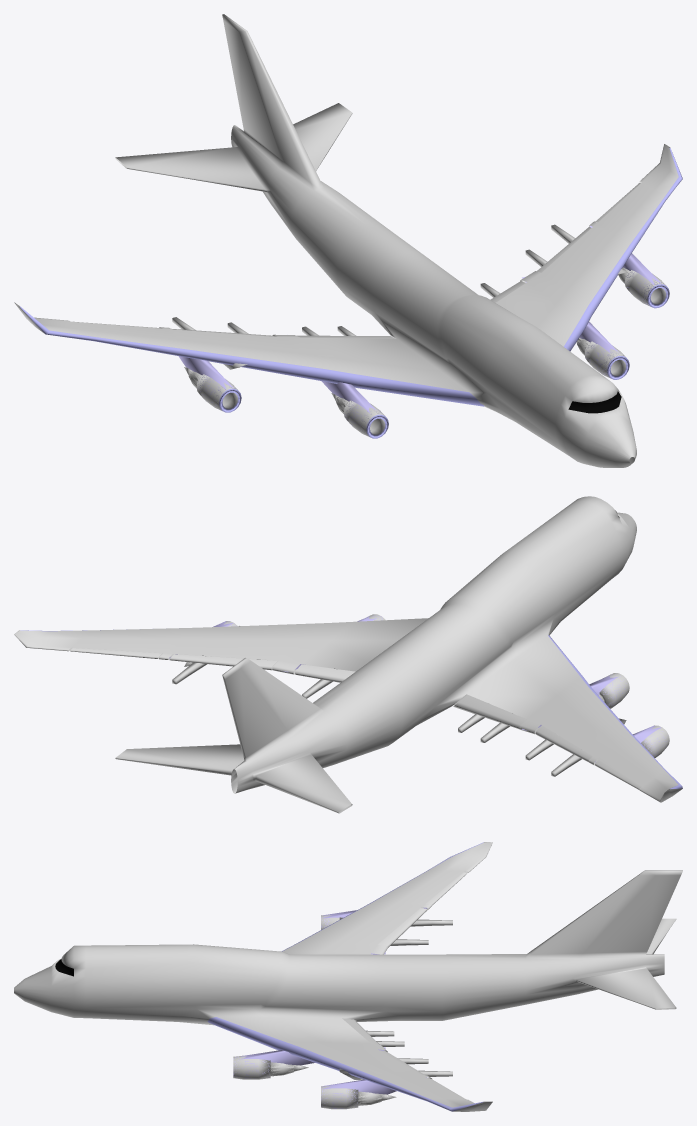
3 renders of one model, top to bottom at view 1: azimuth 30°, elevation 25°; view 2: azimuth 150°, elevation 25°; view 3: azimuth 270°, elevation 25°, orthographic. The views are drawn at different scales.
Visible parts, largest first — view 1: Cylinder; view 2: Cylinder; view 3: Cylinder.
Boxes of the visible parts, x1,y1,x2,y2 form: Cylinder: (14,14,682,467); Cylinder: (14,496,682,813); Cylinder: (14,842,682,1111).
Bounding box in the file's own units: 4.46 × 4.85 × 1.28.
